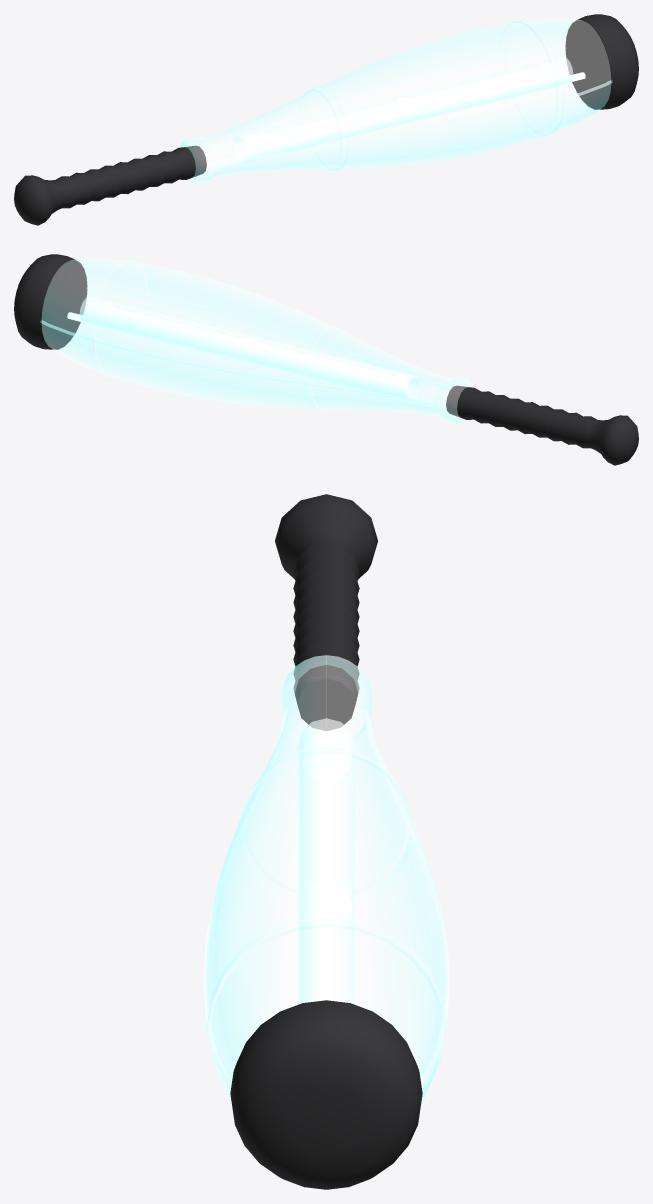
The model's file is led-vision-club.glb.
3 views of the same model, one above another, from view 1: azimuth 30°, elevation 25°; view 2: azimuth 150°, elevation 25°; view 3: azimuth 270°, elevation 25° (orthographic). The views are drawn at different scales.
Parts seen in each view (by area): view 1: SM_Jam_LedVisionClub; view 2: SM_Jam_LedVisionClub; view 3: SM_Jam_LedVisionClub.
Boxes of the visible parts, <box> form: SM_Jam_LedVisionClub: <box>14,14,638,225</box>; SM_Jam_LedVisionClub: <box>14,254,638,465</box>; SM_Jam_LedVisionClub: <box>202,494,450,1189</box>.
Size of the model in its own units: 0.52 by 0.09 by 0.0919.
